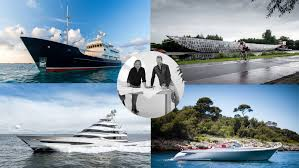boat: (20, 4, 124, 73), (16, 110, 151, 157), (172, 137, 285, 161)
